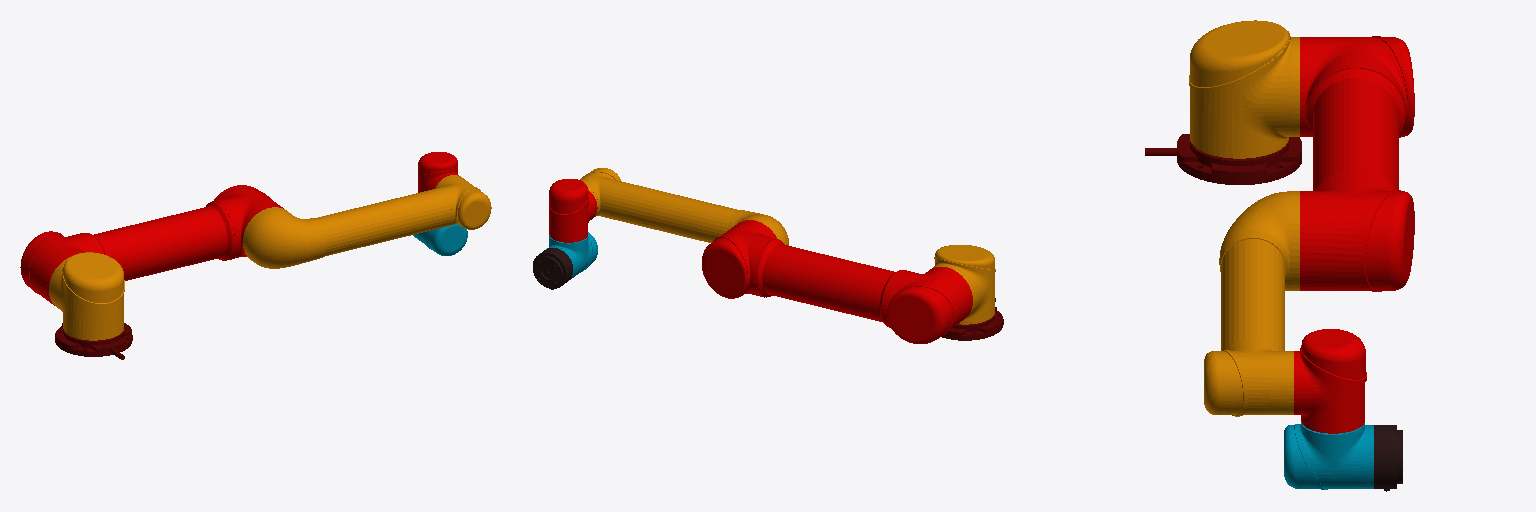
URDF robot description (ur5):
<?xml version="1.0" ?>

<!-- ================================================================================================ -->
<!-- Note: This URDF file and associated content are based on files from the GitHub repository below. -->
<!--       Geometry files were converted as necessary to a format supported by Simscape Multibody.    -->
<!--       Adjustments were made to the URDF file for compatibility with Simscape Multibody.          -->
<!--                                                                                                  -->
<!--  GitHub source: https://github.com/ros-industrial/universal_robot/tree/1.2.1                     -->
<!-- ================================================================================================ -->

<!-- =================================================================================== -->
<!-- |    This document was autogenerated by xacro from ur5_robot.urdf.xacro           | -->
<!-- |    EDITING THIS FILE BY HAND IS NOT RECOMMENDED                                 | -->
<!-- =================================================================================== -->
<robot name="ur5" xmlns:xacro="http://ros.org/wiki/xacro">
  <gazebo>
    <plugin filename="libgazebo_ros_control.so" name="ros_control">
      <!--robotNamespace>/</robotNamespace-->
      <!--robotSimType>gazebo_ros_control/DefaultRobotHWSim</robotSimType-->
    </plugin>
    <!--
    <plugin name="gazebo_ros_power_monitor_controller" filename="libgazebo_ros_power_monitor.so">
      <alwaysOn>true</alwaysOn>
      <updateRate>1.0</updateRate>
      <timeout>5</timeout>
      <powerStateTopic>power_state</powerStateTopic>
      <powerStateRate>10.0</powerStateRate>
      <fullChargeCapacity>87.78</fullChargeCapacity>     
      <dischargeRate>-474</dischargeRate>
      <chargeRate>525</chargeRate>
      <dischargeVoltage>15.52</dischargeVoltage>
      <chargeVoltage>16.41</chargeVoltage>
    </plugin>
-->
  </gazebo>
  <!-- measured from model -->
  <!--property name="shoulder_height" value="0.089159" /-->
  <!--property name="shoulder_offset" value="0.13585" /-->
  <!-- shoulder_offset - elbow_offset + wrist_1_length = 0.10915 -->
  <!--property name="upper_arm_length" value="0.42500" /-->
  <!--property name="elbow_offset" value="0.1197" /-->
  <!-- CAD measured -->
  <!--property name="forearm_length" value="0.39225" /-->
  <!--property name="wrist_1_length" value="0.093" /-->
  <!-- CAD measured -->
  <!--property name="wrist_2_length" value="0.09465" /-->
  <!-- In CAD this distance is 0.930, but in the spec it is 0.09465 -->
  <!--property name="wrist_3_length" value="0.0823" /-->
  <!-- manually measured -->
  <link name="base_link">
    <visual>
      <geometry>
        <mesh filename="ur5_base.stl"/>
      </geometry>
      <material name="">
        <color rgba="0.39 0.04 0.04 1.0"/>
      </material>
    </visual>
    <collision>
      <geometry>
        <mesh filename="ur5_collision_base.stl"/>
      </geometry>
    </collision>
    <inertial>
      <mass value="4.0"/>
      <origin rpy="0 0 0" xyz="0.0 0.0 0.0"/>
      <inertia ixx="0.00443333156" ixy="0.0" ixz="0.0" iyy="0.00443333156" iyz="0.0" izz="0.0072"/>
    </inertial>
  </link>
  <joint name="shoulder_pan_joint" type="revolute">
    <parent link="base_link"/>
    <child link="shoulder_link"/>
    <origin rpy="0.0 0.0 0.0" xyz="0.0 0.0 0.089159"/>
    <axis xyz="0 0 1"/>
    <limit effort="150.0" lower="-6.28318530718" upper="6.28318530718" velocity="3.15"/>
    <dynamics damping="0.0" friction="0.0"/>
  </joint>
  <link name="shoulder_link">
    <visual>
      <geometry>
        <mesh filename="ur5_shoulder.stl"/>
      </geometry>
      <material name="">
        <color rgba="0.84 0.54 0.04 1.0"/>
      </material>
    </visual>
    <collision>
      <geometry>
        <mesh filename="ur5_collision_shoulder.stl"/>
      </geometry>
    </collision>
    <inertial>
      <mass value="3.7"/>
      <origin rpy="0 0 0" xyz="0.0 0.0 0.0"/>
      <inertia ixx="0.010267495893" ixy="0.0" ixz="0.0" iyy="0.010267495893" iyz="0.0" izz="0.00666"/>
    </inertial>
  </link>
  <joint name="shoulder_lift_joint" type="revolute">
    <parent link="shoulder_link"/>
    <child link="upper_arm_link"/>
    <origin rpy="0.0 1.57079632679 0.0" xyz="0.0 0.13585 0.0"/>
    <axis xyz="0 1 0"/>
    <limit effort="150.0" lower="-6.28318530718" upper="6.28318530718" velocity="3.15"/>
    <dynamics damping="0.0" friction="0.0"/>
  </joint>
  <link name="upper_arm_link">
    <visual>
      <geometry>
        <mesh filename="ur5_upperarm.stl"/>
      </geometry>
      <material name="">
        <color rgba="0.85 0.0196 0.0196 1.0"/>
      </material>
    </visual>
    <collision>
      <geometry>
        <mesh filename="ur5_collision_upperarm.stl"/>
      </geometry>
    </collision>
    <inertial>
      <mass value="8.393"/>
      <origin rpy="0 0 0" xyz="0.0 0.0 0.28"/>
      <inertia ixx="0.22689067591" ixy="0.0" ixz="0.0" iyy="0.22689067591" iyz="0.0" izz="0.0151074"/>
    </inertial>
  </link>
  <joint name="elbow_joint" type="revolute">
    <parent link="upper_arm_link"/>
    <child link="forearm_link"/>
    <origin rpy="0.0 0.0 0.0" xyz="0.0 -0.1197 0.425"/>
    <axis xyz="0 1 0"/>
    <limit effort="150.0" lower="-3.14159265359" upper="3.14159265359" velocity="3.15"/>
    <dynamics damping="0.0" friction="0.0"/>
  </joint>
  <link name="forearm_link">
    <visual>
      <geometry>
        <mesh filename="ur5_forearm.stl"/>
      </geometry>
      <material name="">
        <color rgba="0.84 0.54 0.04 1.0"/>
      </material>
    </visual>
    <collision>
      <geometry>
        <mesh filename="ur5_collision_forearm.stl"/>
      </geometry>
    </collision>
    <inertial>
      <mass value="2.275"/>
      <origin rpy="0 0 0" xyz="0.0 0.0 0.25"/>
      <inertia ixx="0.049443313556" ixy="0.0" ixz="0.0" iyy="0.049443313556" iyz="0.0" izz="0.004095"/>
    </inertial>
  </link>
  <joint name="wrist_1_joint" type="revolute">
    <parent link="forearm_link"/>
    <child link="wrist_1_link"/>
    <origin rpy="0.0 1.57079632679 0.0" xyz="0.0 0.0 0.39225"/>
    <axis xyz="0 1 0"/>
    <limit effort="28.0" lower="-6.28318530718" upper="6.28318530718" velocity="3.2"/>
    <dynamics damping="0.0" friction="0.0"/>
  </joint>
  <link name="wrist_1_link">
    <visual>
      <geometry>
        <mesh filename="ur5_wrist1.stl"/>
      </geometry>
      <material name="">
        <color rgba="0.85 0.0196 0.0196 1.0"/>
      </material>
    </visual>
    <collision>
      <geometry>
        <mesh filename="ur5_collision_wrist1.stl"/>
      </geometry>
    </collision>
    <inertial>
      <mass value="1.219"/>
      <origin rpy="0 0 0" xyz="0.0 0.0 0.0"/>
      <inertia ixx="0.111172755531" ixy="0.0" ixz="0.0" iyy="0.111172755531" iyz="0.0" izz="0.21942"/>
    </inertial>
  </link>
  <joint name="wrist_2_joint" type="revolute">
    <parent link="wrist_1_link"/>
    <child link="wrist_2_link"/>
    <origin rpy="0.0 0.0 0.0" xyz="0.0 0.093 0.0"/>
    <axis xyz="0 0 1"/>
    <limit effort="28.0" lower="-6.28318530718" upper="6.28318530718" velocity="3.2"/>
    <dynamics damping="0.0" friction="0.0"/>
  </joint>
  <link name="wrist_2_link">
    <visual>
      <geometry>
        <mesh filename="ur5_wrist2.stl"/>
      </geometry>
      <material name="">
        <color rgba="0.019 0.588 0.706 1.0"/>
      </material>
    </visual>
    <collision>
      <geometry>
        <mesh filename="ur5_collision_wrist2.stl"/>
      </geometry>
    </collision>
    <inertial>
      <mass value="1.219"/>
      <origin rpy="0 0 0" xyz="0.0 0.0 0.0"/>
      <inertia ixx="0.111172755531" ixy="0.0" ixz="0.0" iyy="0.111172755531" iyz="0.0" izz="0.21942"/>
    </inertial>
  </link>
  <joint name="wrist_3_joint" type="revolute">
    <parent link="wrist_2_link"/>
    <child link="wrist_3_link"/>
    <origin rpy="0.0 0.0 0.0" xyz="0.0 0.0 0.09465"/>
    <axis xyz="0 1 0"/>
    <limit effort="28.0" lower="-6.28318530718" upper="6.28318530718" velocity="3.2"/>
    <dynamics damping="0.0" friction="0.0"/>
  </joint>
  <link name="wrist_3_link">
    <visual>
      <geometry>
        <mesh filename="ur5_wrist3.stl"/>
      </geometry>
      <material name="">
        <color rgba="0.196 0.118 0.118 1.0"/>
      </material>
    </visual>
    <collision>
      <geometry>
        <mesh filename="ur5_collision_wrist3.stl"/>
      </geometry>
    </collision>
    <inertial>
      <mass value="0.1879"/>
      <origin rpy="0 0 0" xyz="0.0 0.0 0.0"/>
      <inertia ixx="0.0171364731454" ixy="0.0" ixz="0.0" iyy="0.0171364731454" iyz="0.0" izz="0.033822"/>
    </inertial>
  </link>
  <joint name="ee_fixed_joint" type="fixed">
    <parent link="wrist_3_link"/>
    <child link="ee_link"/>
    <origin rpy="0.0 0.0 1.57079632679" xyz="0.0 0.0823 0.0"/>
  </joint>
  <link name="ee_link">
    <collision>
      <geometry>
        <box size="0.01 0.01 0.01"/>
      </geometry>
      <origin rpy="0 0 0" xyz="-0.01 0 0"/>
    </collision>
  </link>
  <transmission name="shoulder_pan_trans">
    <type>transmission_interface/SimpleTransmission</type>
    <joint name="shoulder_pan_joint">
      <hardwareInterface>hardware_interface/PositionJointInterface</hardwareInterface>
    </joint>
    <actuator name="shoulder_pan_motor">
      <mechanicalReduction>1</mechanicalReduction>
    </actuator>
  </transmission>
  <transmission name="shoulder_lift_trans">
    <type>transmission_interface/SimpleTransmission</type>
    <joint name="shoulder_lift_joint">
      <hardwareInterface>hardware_interface/PositionJointInterface</hardwareInterface>
    </joint>
    <actuator name="shoulder_lift_motor">
      <mechanicalReduction>1</mechanicalReduction>
    </actuator>
  </transmission>
  <transmission name="elbow_trans">
    <type>transmission_interface/SimpleTransmission</type>
    <joint name="elbow_joint">
      <hardwareInterface>hardware_interface/PositionJointInterface</hardwareInterface>
    </joint>
    <actuator name="elbow_motor">
      <mechanicalReduction>1</mechanicalReduction>
    </actuator>
  </transmission>
  <transmission name="wrist_1_trans">
    <type>transmission_interface/SimpleTransmission</type>
    <joint name="wrist_1_joint">
      <hardwareInterface>hardware_interface/PositionJointInterface</hardwareInterface>
    </joint>
    <actuator name="wrist_1_motor">
      <mechanicalReduction>1</mechanicalReduction>
    </actuator>
  </transmission>
  <transmission name="wrist_2_trans">
    <type>transmission_interface/SimpleTransmission</type>
    <joint name="wrist_2_joint">
      <hardwareInterface>hardware_interface/PositionJointInterface</hardwareInterface>
    </joint>
    <actuator name="wrist_2_motor">
      <mechanicalReduction>1</mechanicalReduction>
    </actuator>
  </transmission>
  <transmission name="wrist_3_trans">
    <type>transmission_interface/SimpleTransmission</type>
    <joint name="wrist_3_joint">
      <hardwareInterface>hardware_interface/PositionJointInterface</hardwareInterface>
    </joint>
    <actuator name="wrist_3_motor">
      <mechanicalReduction>1</mechanicalReduction>
    </actuator>
  </transmission>
  <!-- nothing to do here at the moment -->
  <!-- ROS base_link to UR 'Base' Coordinates transform -->
  <link name="base"/>
  <joint name="base_link-base_fixed_joint" type="fixed">
    <!-- NOTE: this rotation is only needed as long as base_link itself is
                 not corrected wrt the real robot (ie: rotated over 180
                 degrees)
      -->
    <origin rpy="0 0 -3.14159265359" xyz="0 0 0"/>
    <parent link="base_link"/>
    <child link="base"/>
  </joint>
  <!-- Frame coincident with all-zeros TCP on UR controller -->
  <link name="tool0"/>
  <joint name="wrist_3_link-tool0_fixed_joint" type="fixed">
    <origin rpy="-1.57079632679 0 0" xyz="0 0.0823 0"/>
    <parent link="wrist_3_link"/>
    <child link="tool0"/>
  </joint>
  <link name="world"/>
  <joint name="world_joint" type="fixed">
    <parent link="world"/>
    <child link="base_link"/>
    <origin rpy="0.0 0.0 0.0" xyz="0.0 0.0 0.0"/>
  </joint>
</robot>

--- What the picture shows (computed from the rendered views, not written in the file) ---
The picture shows the robot from 3 angles, left to right: view 1: azimuth 30°, elevation 25°; view 2: azimuth 150°, elevation 25°; view 3: azimuth 270°, elevation 25°; orthographic projection.
Robot: ur5 — 11 links, 10 joints (6 revolute, 4 fixed); root link world; default pose: every joint at zero.
Links seen in each view (by area): view 1: upper_arm_link, forearm_link, shoulder_link, base_link, wrist_1_link, wrist_2_link; view 2: upper_arm_link, forearm_link, shoulder_link, wrist_1_link, wrist_3_link, wrist_2_link, base_link; view 3: upper_arm_link, forearm_link, shoulder_link, wrist_1_link, wrist_2_link, base_link, wrist_3_link.
Link boxes in pixels (x1=…): upper_arm_link: x1=20, y1=185, x2=283, y2=305; forearm_link: x1=243, y1=175, x2=491, y2=268; shoulder_link: x1=49, y1=252, x2=124, y2=340; base_link: x1=55, y1=323, x2=132, y2=359; wrist_1_link: x1=418, y1=152, x2=458, y2=192; wrist_2_link: x1=413, y1=224, x2=467, y2=255; upper_arm_link: x1=702, y1=220, x2=972, y2=343; forearm_link: x1=580, y1=168, x2=788, y2=245; shoulder_link: x1=933, y1=245, x2=995, y2=324; wrist_1_link: x1=549, y1=179, x2=597, y2=242; wrist_3_link: x1=533, y1=248, x2=572, y2=289; wrist_2_link: x1=547, y1=232, x2=597, y2=279; base_link: x1=942, y1=298, x2=1003, y2=340; upper_arm_link: x1=1300, y1=36, x2=1414, y2=291; forearm_link: x1=1204, y1=191, x2=1299, y2=416; shoulder_link: x1=1189, y1=20, x2=1299, y2=158; wrist_1_link: x1=1294, y1=329, x2=1366, y2=433; wrist_2_link: x1=1284, y1=422, x2=1373, y2=489; base_link: x1=1145, y1=134, x2=1301, y2=184; wrist_3_link: x1=1374, y1=425, x2=1402, y2=491.
Size in the robot's own frame: 0.9295 by 0.3144 by 0.2062 metres.
7 mesh visuals loaded from 7 distinct referenced files (7 binary STL).